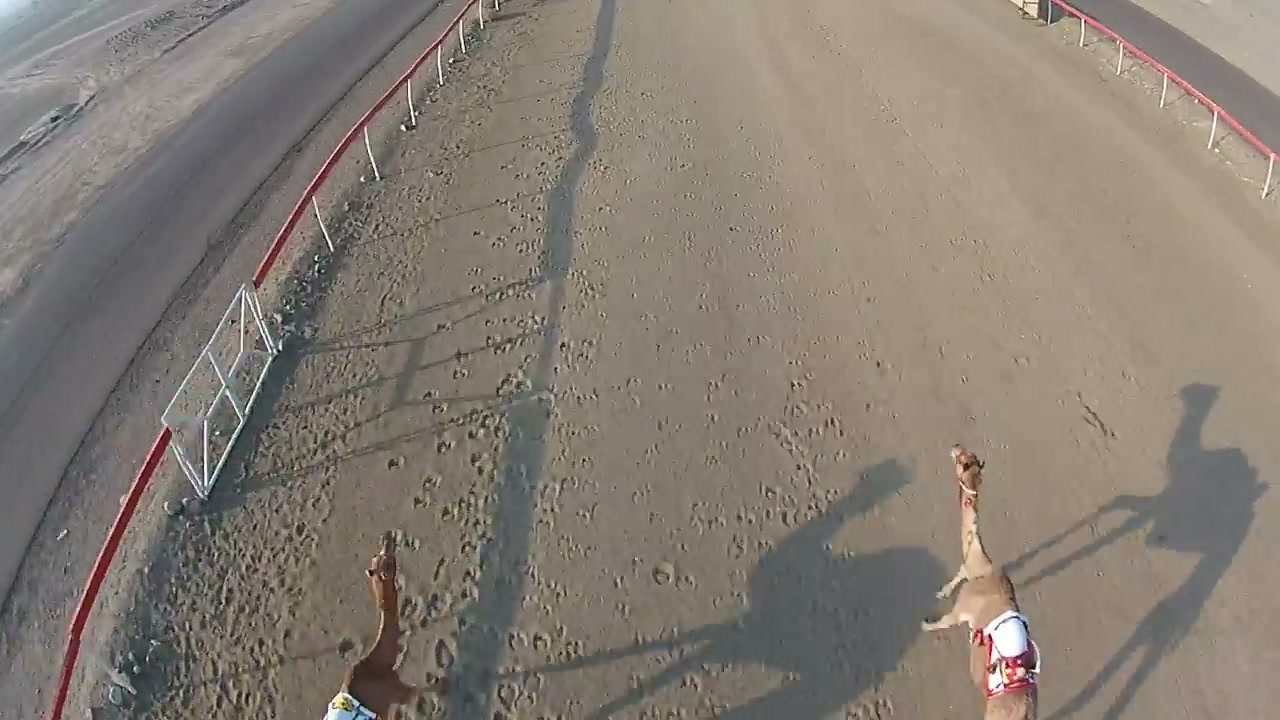animal_foot_print: (406, 137, 584, 713), (499, 224, 597, 708)
